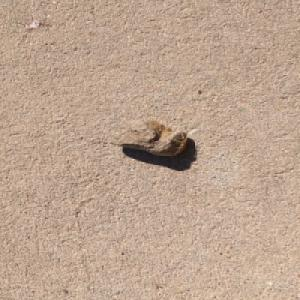Rock: (107, 118, 187, 156)
